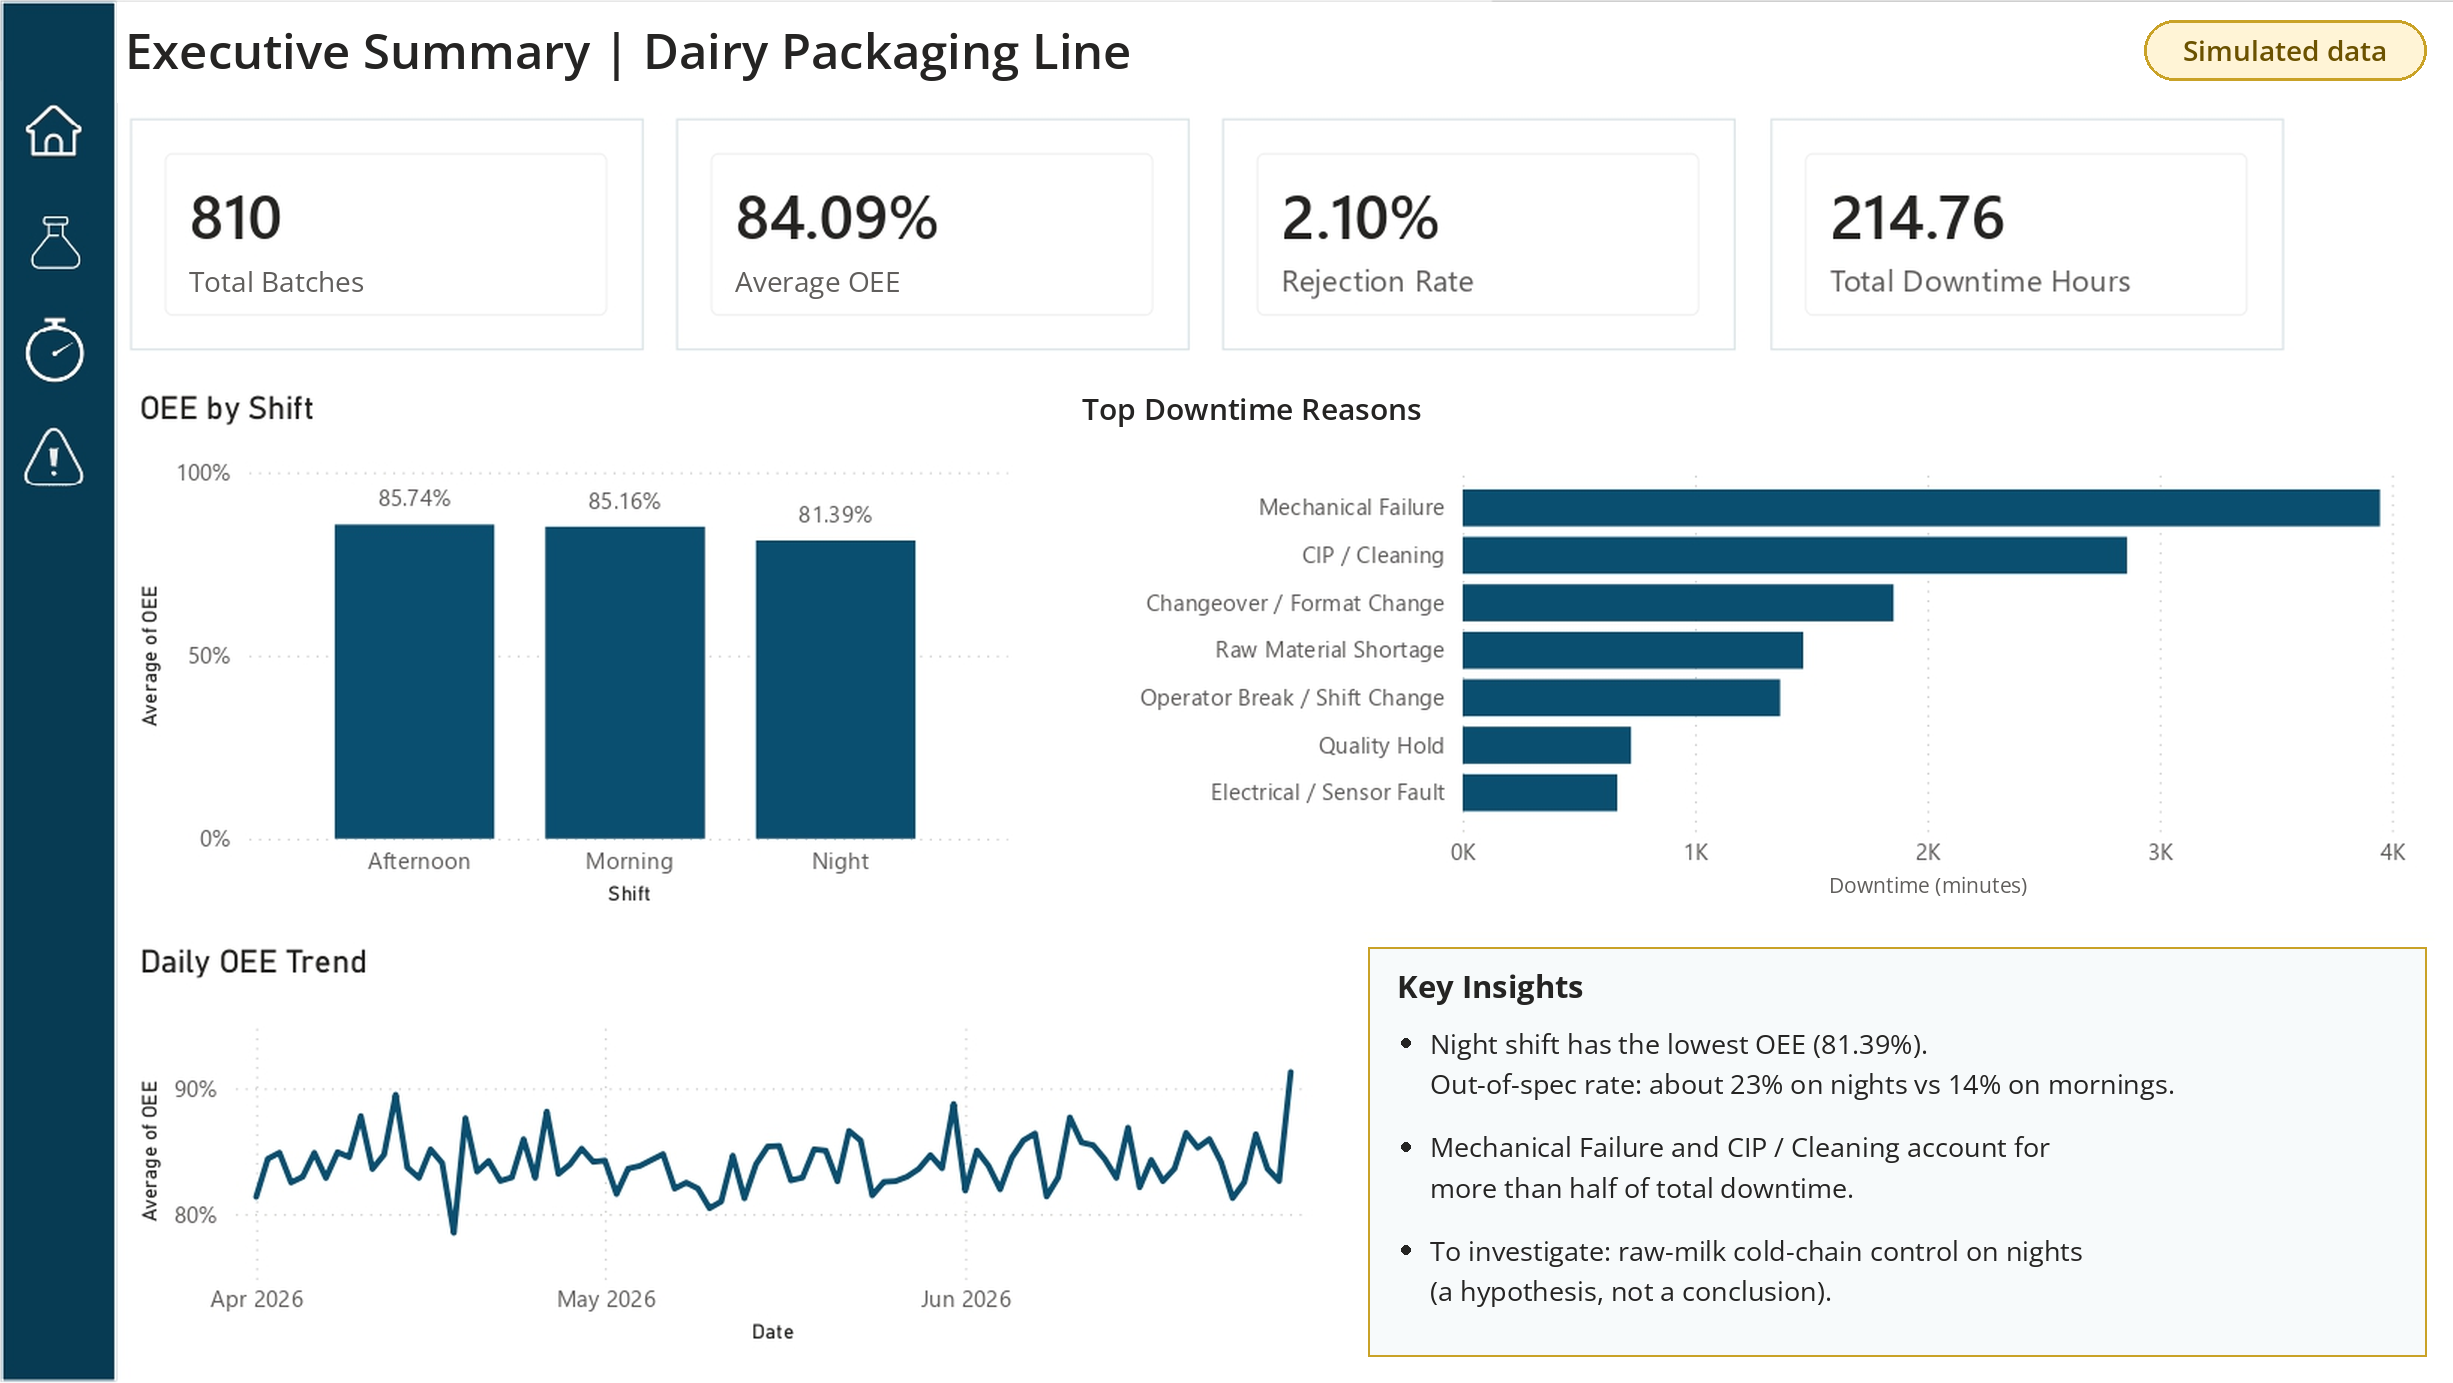

Layout of this report page (visuals, bound fields, positions):
{"tool":"powerbi","page":{"name":"Executive Summary","canvas":[1280,720],"ordinal":0},"visuals":[{"type":"cardVisual","title":"Overall OEE","fields":{"Data":["Count(Fact_QC.Batch_ID)"]},"box":[67,61,267.6,142.7],"z":0},{"type":"cardVisual","title":"First Pass Yield","fields":{"Data":["Avg(Fact_Production.OEE)"]},"box":[352.2,61,267.6,143.8],"z":1000},{"type":"lineChart","title":"Daily OEE Trend","fields":{"Category":["Fact_Production.Date"],"Y":["Avg(Fact_Production.OEE)"]},"box":[67,237,611.8,215.1],"z":2000},{"type":"clusteredColumnChart","title":"OEE by Shift","fields":{"Category":["Dim_Shift.Shift"],"Y":["Avg(Fact_Production.OEE)"]},"box":[67,472,463.8,234],"z":3000},{"type":"clusteredBarChart","title":"Top Downtime Reason","fields":{"Category":["Fact_Downtime.Downtime_Reason"],"Y":["Sum(Fact_Downtime.Duration_Minutes)"]},"box":[713,237,546.7,235.1],"z":4000},{"type":"textbox","box":[60,0,717.8,50.1],"z":5000},{"type":"cardVisual","title":"Rejection Rate","fields":{"Data":["Fact_QC.Rejection Rate"]},"box":[637.4,61,268,150],"z":6000},{"type":"cardVisual","title":"Total Downtime","fields":{"Data":["Fact_Downtime.Total Downtimee Hours"]},"box":[923,61,267.6,150.1],"z":7000},{"type":"textbox","title":"Key Insights: ","box":[713,493,557,213],"z":8000},{"type":"shape","box":[0,0,60,720.2],"z":9000},{"type":"image","box":[10,50,35,35],"z":10000},{"type":"image","box":[8,105,40,40],"z":11000},{"type":"image","box":[10,220,35,35],"z":12000},{"type":"image","box":[7,162,40,40],"z":13000}]}

Visuals, with their boxes on the page's 1280x720 design canvas (x1, y1, x2, y2). These are canvas units, not pixel positions in the 2453x1383 screenshot, which may show the page scaled, cropped or inside an application window:
"Overall OEE" cardVisual: {"x1": 67, "y1": 61, "x2": 335, "y2": 204}
"First Pass Yield" cardVisual: {"x1": 352, "y1": 61, "x2": 620, "y2": 205}
"Daily OEE Trend" lineChart: {"x1": 67, "y1": 237, "x2": 679, "y2": 452}
"OEE by Shift" clusteredColumnChart: {"x1": 67, "y1": 472, "x2": 531, "y2": 706}
"Top Downtime Reason" clusteredBarChart: {"x1": 713, "y1": 237, "x2": 1260, "y2": 472}
textbox: {"x1": 60, "y1": 0, "x2": 778, "y2": 50}
"Rejection Rate" cardVisual: {"x1": 637, "y1": 61, "x2": 905, "y2": 211}
"Total Downtime" cardVisual: {"x1": 923, "y1": 61, "x2": 1191, "y2": 211}
"Key Insights: " textbox: {"x1": 713, "y1": 493, "x2": 1270, "y2": 706}
shape: {"x1": 0, "y1": 0, "x2": 60, "y2": 720}
image: {"x1": 10, "y1": 50, "x2": 45, "y2": 85}
image: {"x1": 8, "y1": 105, "x2": 48, "y2": 145}
image: {"x1": 10, "y1": 220, "x2": 45, "y2": 255}
image: {"x1": 7, "y1": 162, "x2": 47, "y2": 202}
